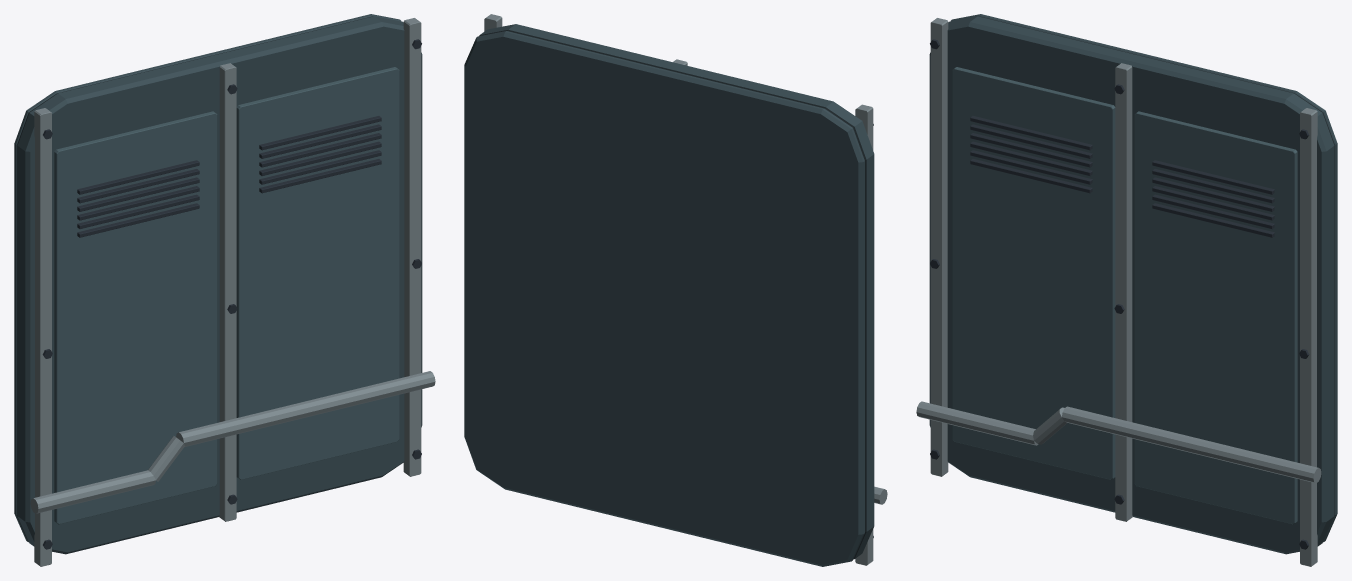
The model's file is F-23_cold_wall.glb.
3 views of the same model, side by side, from view 1: azimuth 30°, elevation 25°; view 2: azimuth 150°, elevation 25°; view 3: azimuth 330°, elevation 25° (orthographic).
Parts seen in each view (by area): view 1: F-23_cold_wall; view 2: F-23_cold_wall; view 3: F-23_cold_wall.
Boxes of the visible parts, left/top/right/bottom form: F-23_cold_wall: left=14, top=14, right=435, bottom=566; F-23_cold_wall: left=464, top=14, right=887, bottom=566; F-23_cold_wall: left=916, top=14, right=1337, bottom=566.
Size of the model in its own units: 3.14 by 3.44 by 0.355.
